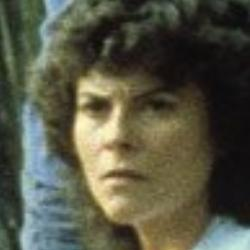face: (24, 3, 243, 225)
